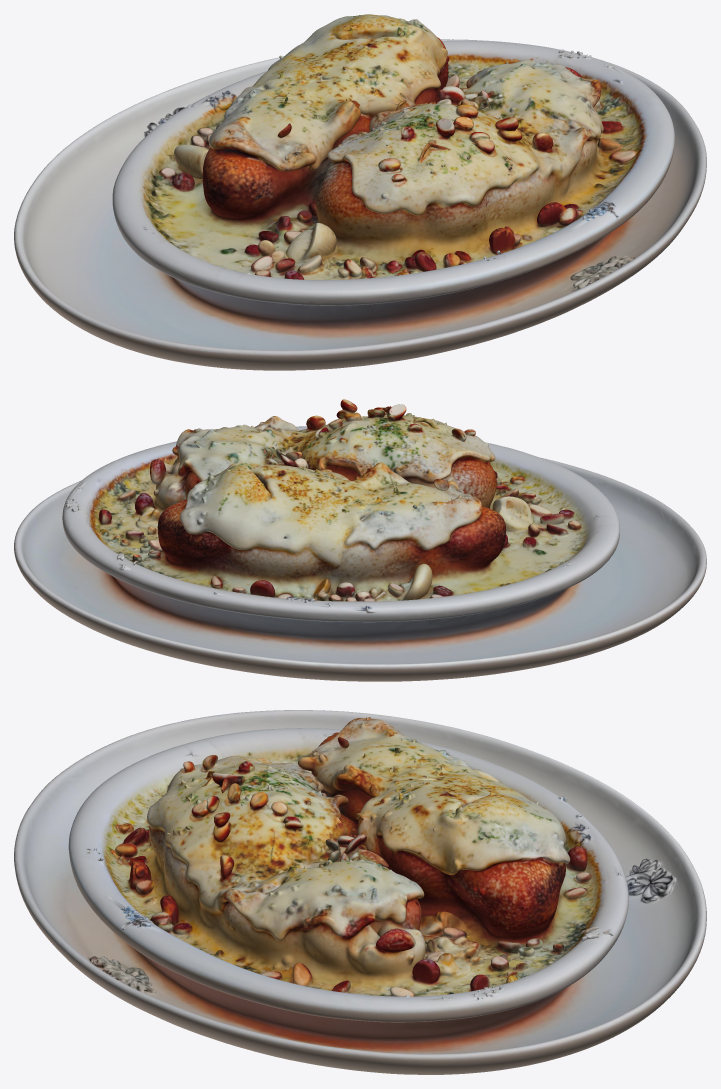
File: aspas-parmegiana.glb
3 views of the same model, one above another, from view 1: azimuth 30°, elevation 25°; view 2: azimuth 150°, elevation 25°; view 3: azimuth 270°, elevation 25° (orthographic). The views are drawn at different scales.
Parts seen in each view (by area): view 1: tripo_node_b499e33a-5578-448b-9a81-5011e30e8052; view 2: tripo_node_b499e33a-5578-448b-9a81-5011e30e8052; view 3: tripo_node_b499e33a-5578-448b-9a81-5011e30e8052.
Part boxes in pixels (box(x1,y1,x2,y2)): tripo_node_b499e33a-5578-448b-9a81-5011e30e8052: box(14, 14, 706, 370); tripo_node_b499e33a-5578-448b-9a81-5011e30e8052: box(14, 399, 706, 681); tripo_node_b499e33a-5578-448b-9a81-5011e30e8052: box(14, 710, 706, 1074).
Bounding box in the file's own units: 0.2853 × 0.0678 × 0.2402.
Materials: 1 (1 with a texture image).
